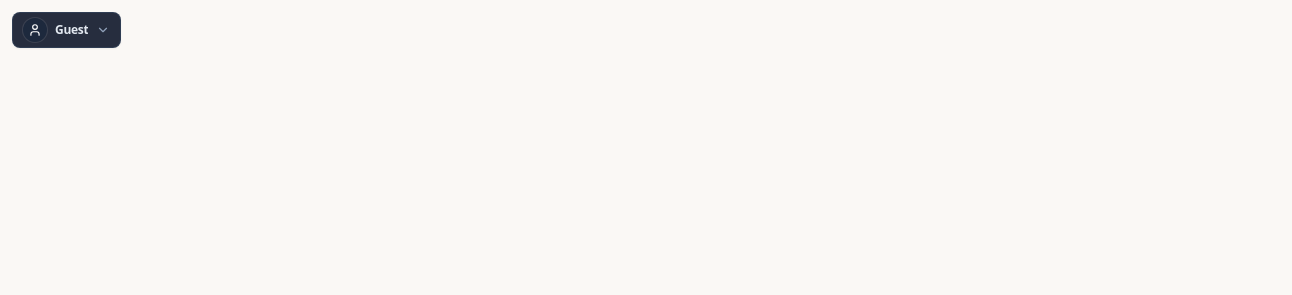
Test: UserMenu (Task 1.10) › renders guest variant with Guest trigger, Create account -> /register?upgrade=1 instead of email row, and Sign out
This screenshot has width=1292, height=295.
Click the button with aria-label "Profile Menu" at (67, 30), box 12,12 -> 121,48
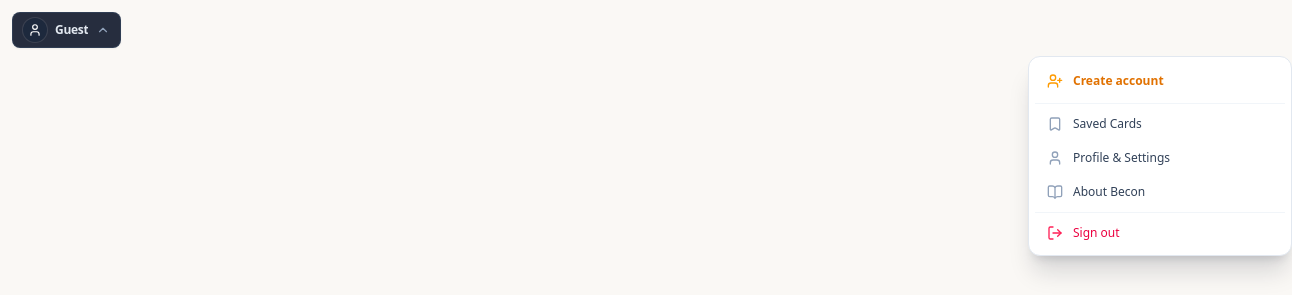
Now the menu item "Sign out" is shown, box 1035,217 -> 1285,249
